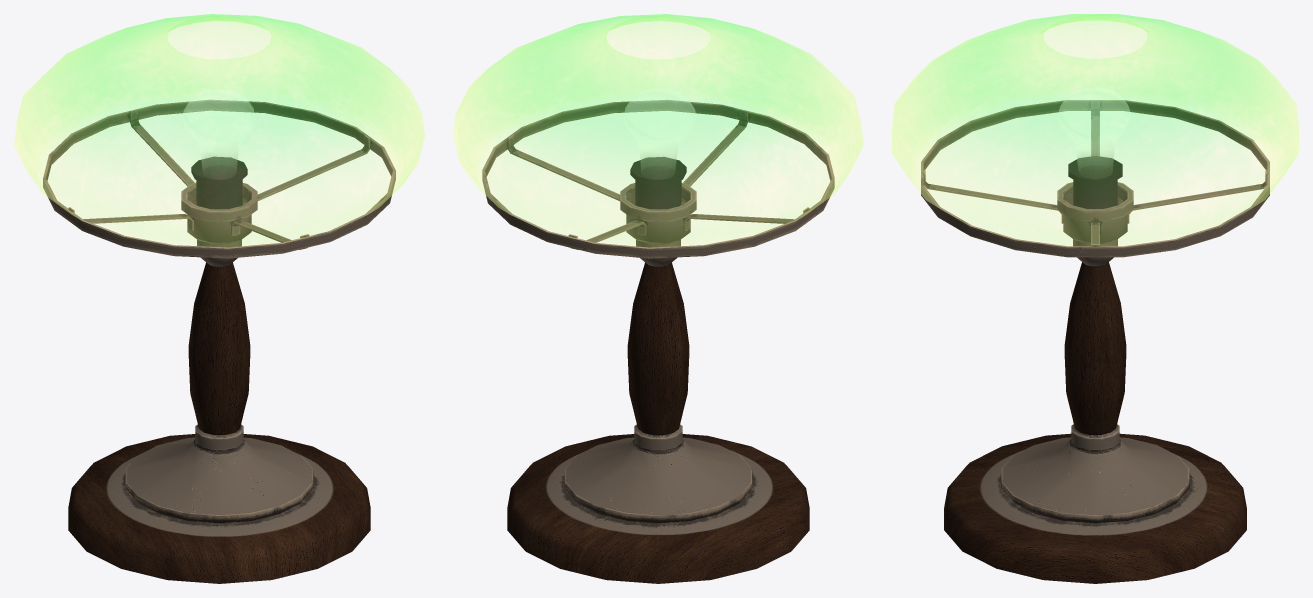
File: obj_lamp_retro_cc2615.glb
3 views of the same model, side by side, from view 1: azimuth 30°, elevation 25°; view 2: azimuth 150°, elevation 25°; view 3: azimuth 270°, elevation 25° (orthographic).
Visible parts, largest first — view 1: obj_lamp_retro_cc2615; view 2: obj_lamp_retro_cc2615; view 3: obj_lamp_retro_cc2615.
Boxes of the visible parts, x1,y1,x2,y2 form: obj_lamp_retro_cc2615: (14,14,424,583); obj_lamp_retro_cc2615: (453,14,863,583); obj_lamp_retro_cc2615: (892,14,1298,583).
Bounding box in the file's own units: 0.4207 × 0.55 × 0.4207.
3 materials, 3 textured.
